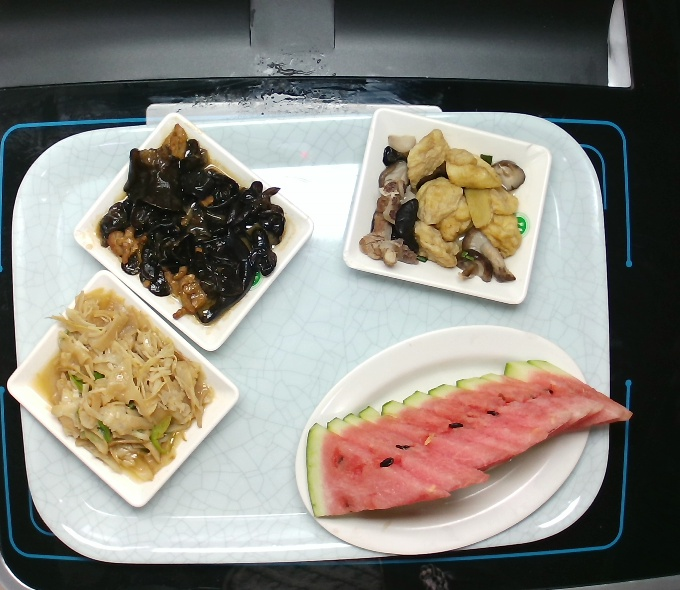wcq-LuSun: (33, 287, 213, 493)
wcq-MuErChaoRou: (113, 134, 286, 319)
wcq-XiGua: (287, 359, 631, 520)
wcq-YouPaoPaiGu: (359, 119, 535, 289)
